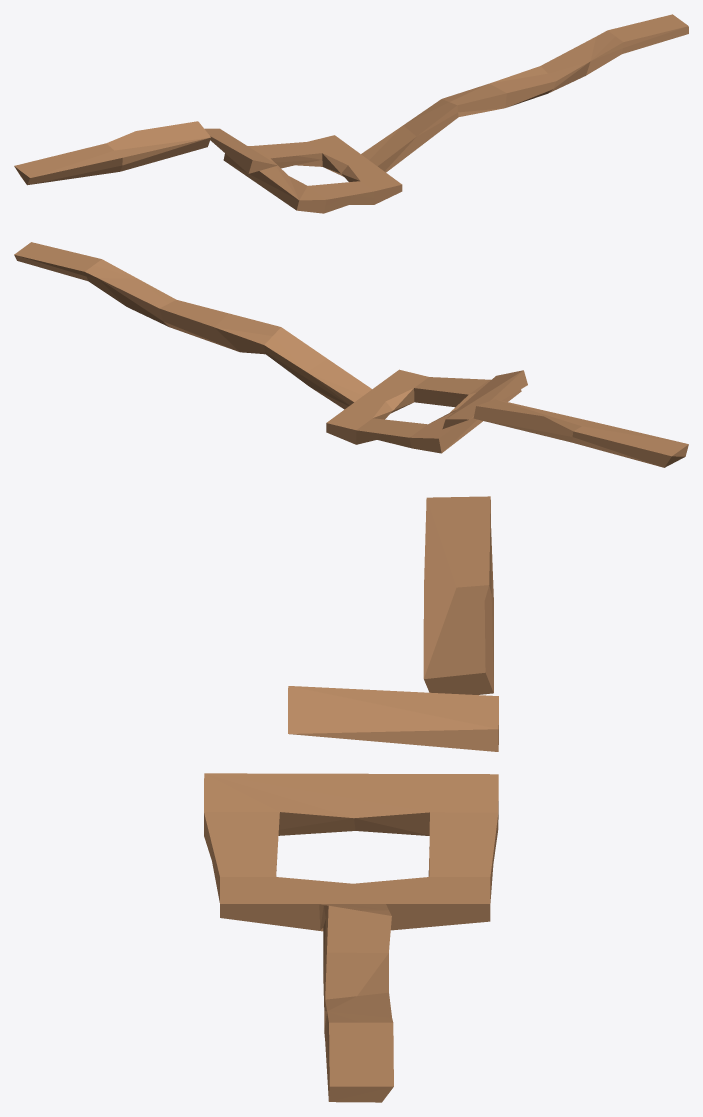
File: map3.fbx
3 renders of one model, top to bottom at view 1: azimuth 30°, elevation 25°; view 2: azimuth 150°, elevation 25°; view 3: azimuth 270°, elevation 25°, orthographic. The views are drawn at different scales.
Visible parts, largest first — view 1: Cube; view 2: Cube; view 3: Cube.
Part boxes in pixels (bbox=[...]): Cube: bbox=[14, 14, 688, 213]; Cube: bbox=[14, 242, 688, 467]; Cube: bbox=[204, 496, 498, 1102].
Bounding box in the file's own units: 9834 × 1116 × 1981.
